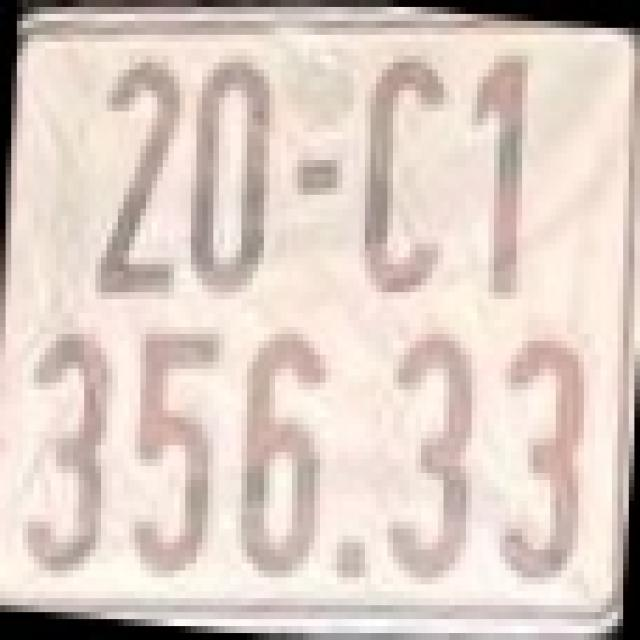0: (185, 56, 275, 292)
1: (466, 49, 539, 299)
2: (92, 56, 182, 299)
3: (388, 327, 478, 577), (22, 327, 112, 570), (502, 334, 586, 577)
5: (129, 323, 219, 574)
6: (238, 327, 328, 577)
C: (356, 56, 452, 292)
